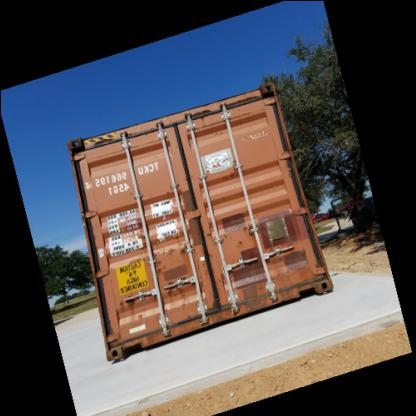Damage: (159, 280, 197, 312), (119, 288, 149, 324), (221, 219, 256, 247), (286, 262, 324, 286)
